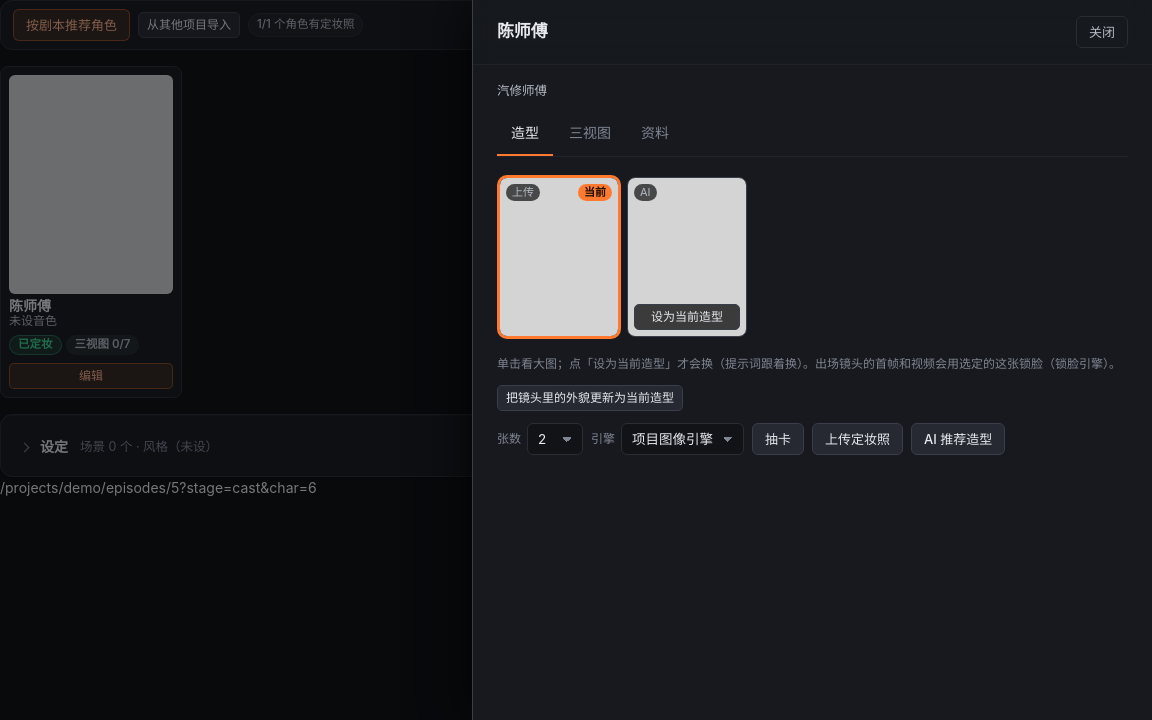
Test: 角色抽屉 › 没有出场镜头时确认框不写过期那句
What coordinates should you click on to do the following:
click the button with aria-label "把定妆照 #46 设为当前造型"
I would click on:
 (687, 317)
Its box is [634,304,740,330].
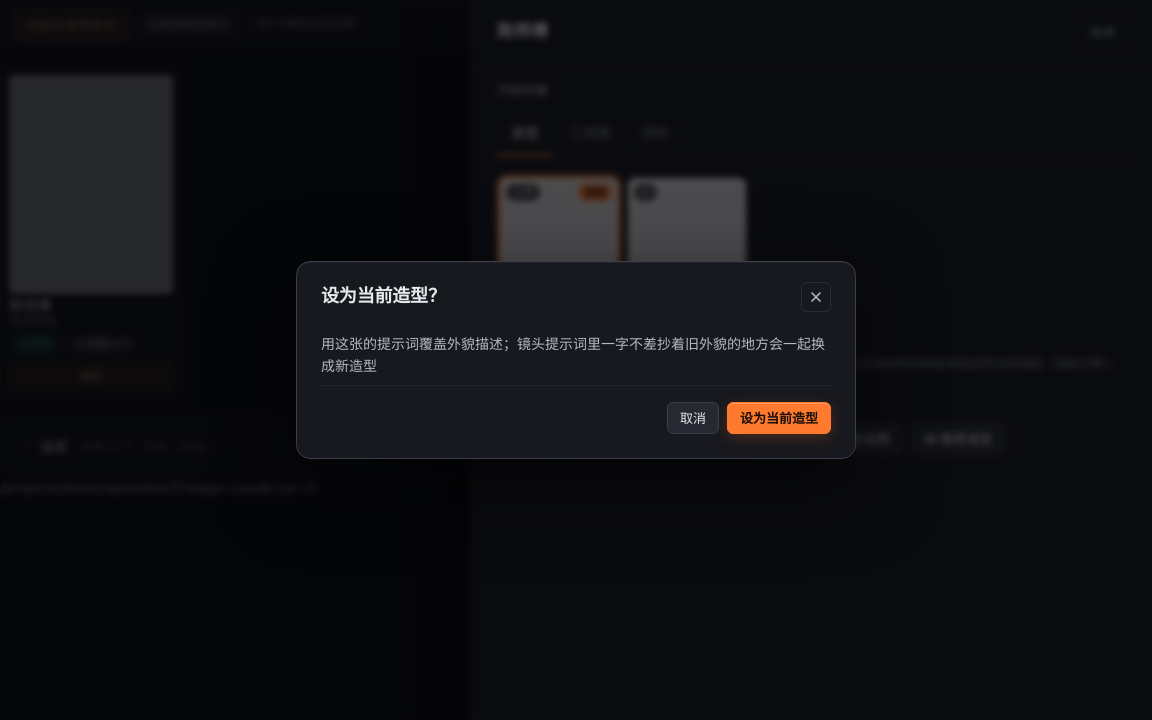
Now the dialog "设为当前造型？" shows "用这张的提示词覆盖外貌描述", box [321,335,825,374]
